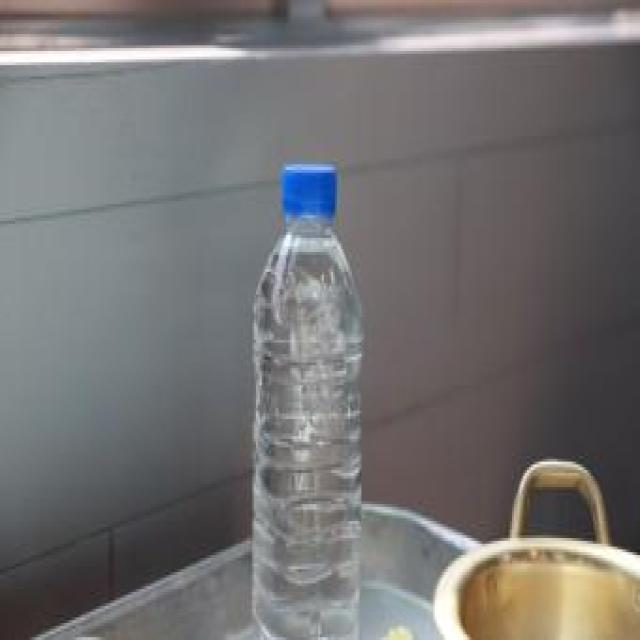bottle: (244, 161, 378, 640)
